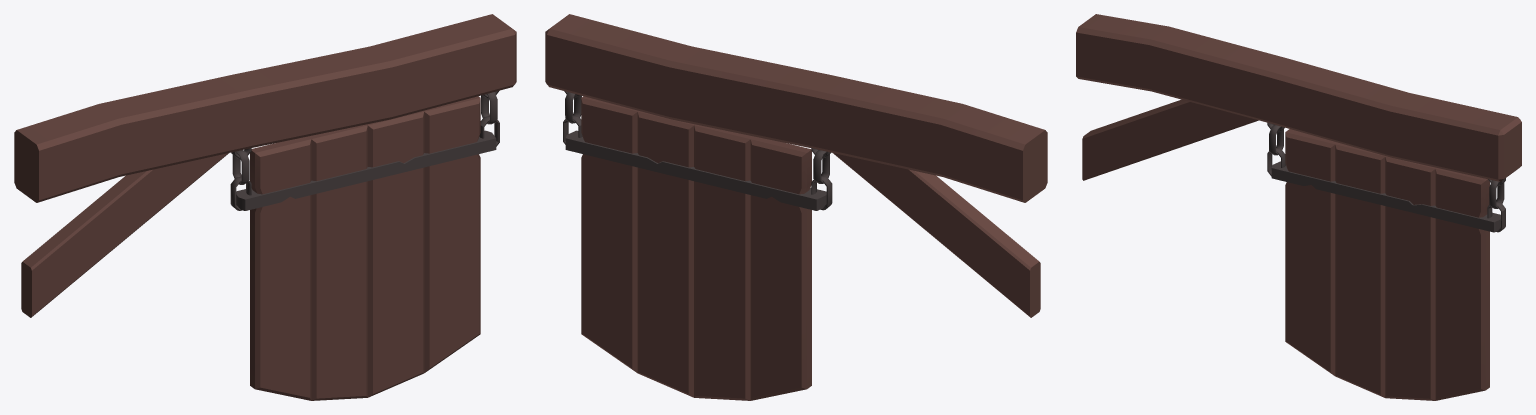
Rendered from Wall_Sign.fbx.
3 renders of one model, left to right at view 1: azimuth 30°, elevation 25°; view 2: azimuth 150°, elevation 25°; view 3: azimuth 330°, elevation 25°, orthographic. The views are drawn at different scales.
Visible parts, largest first — view 1: Wall_Sign; view 2: Wall_Sign; view 3: Wall_Sign.
Boxes of the visible parts, x1,y1,x2,y2 form: Wall_Sign: (14, 14, 516, 400); Wall_Sign: (545, 14, 1047, 400); Wall_Sign: (1076, 14, 1521, 400).
Size of the model in its own units: 0.0085 by 0.00588 by 0.000764.
